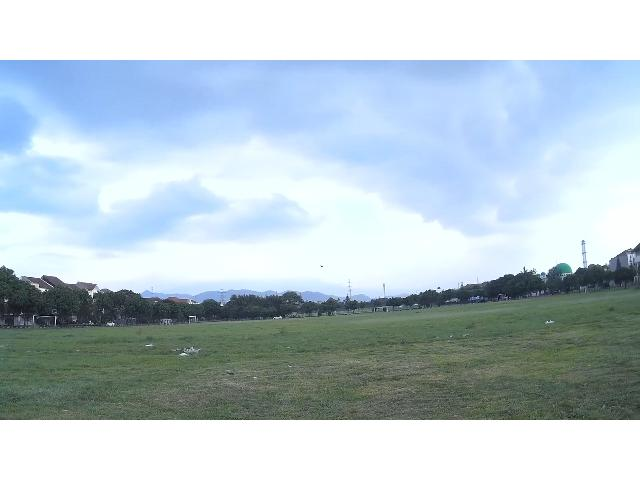Anti-Drone: (306, 254, 342, 275)
